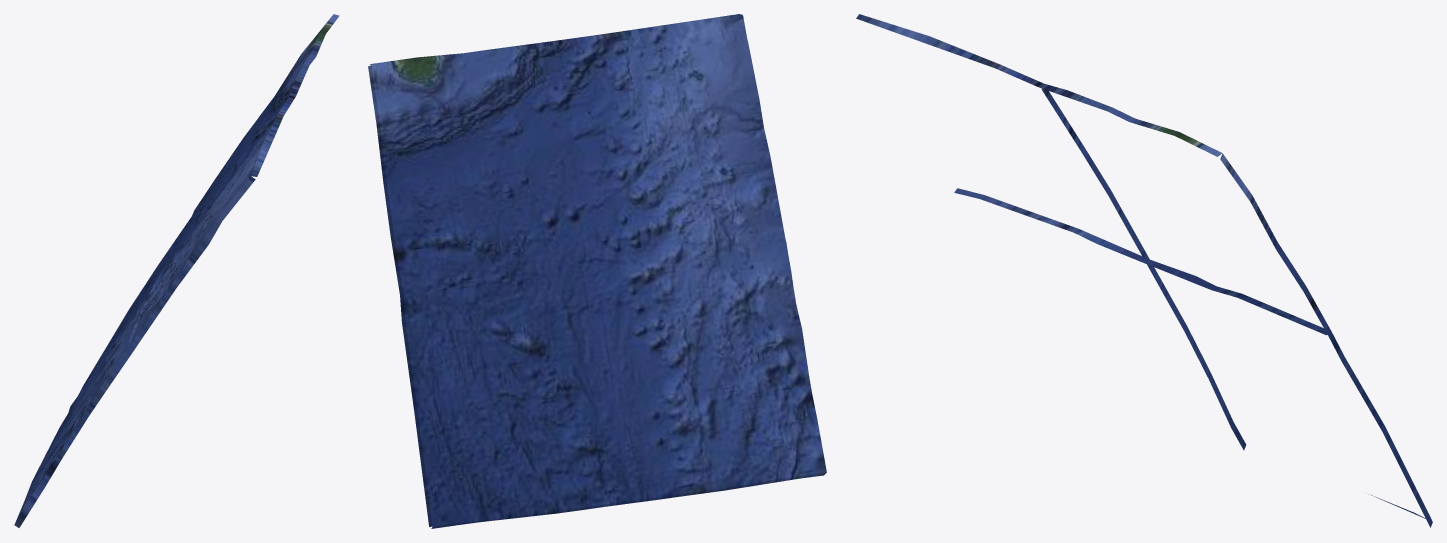
The picture shows the model from 3 angles, left to right: view 1: azimuth 30°, elevation 25°; view 2: azimuth 150°, elevation 25°; view 3: azimuth 270°, elevation 25°; orthographic projection. The views are drawn at different scales.
Bounding box in the file's own units: 605276 × 548020 × 616779.
Materials: 1 (1 with a texture image).
